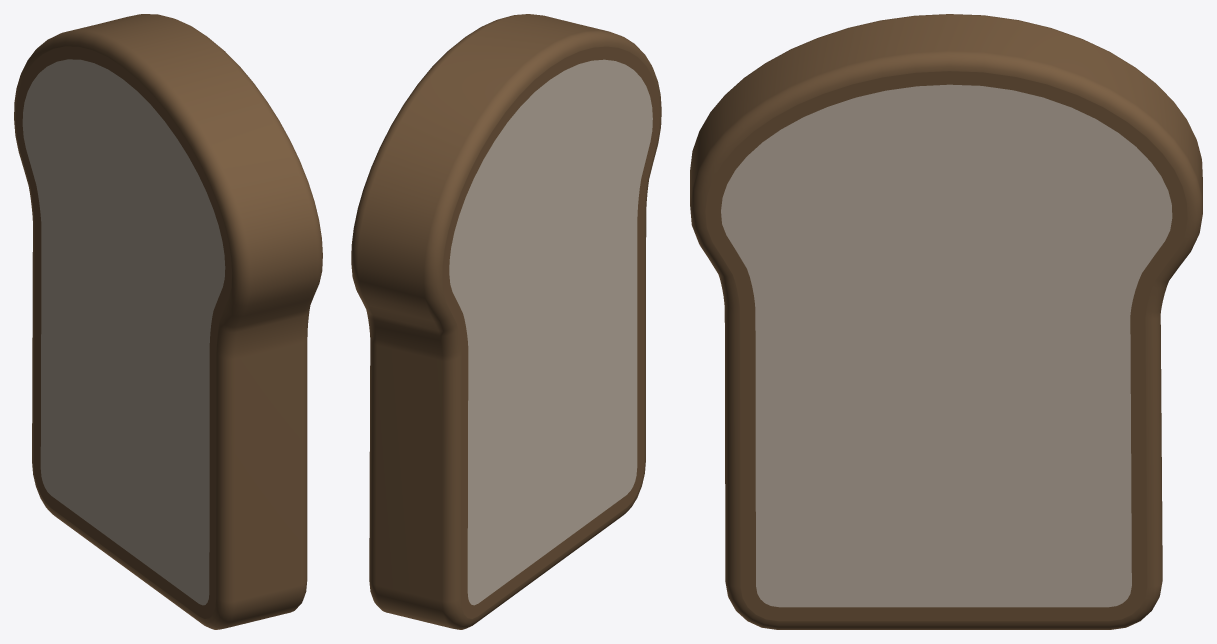
Rendered from SM_Toast_01.fbx.
The picture shows the model from 3 angles, left to right: view 1: azimuth 30°, elevation 25°; view 2: azimuth 150°, elevation 25°; view 3: azimuth 270°, elevation 25°; orthographic projection. The views are drawn at different scales.
Parts seen in each view (by area): view 1: Cylinder.015; view 2: Cylinder.015; view 3: Cylinder.015.
Boxes of the visible parts, x1=… form: Cylinder.015: x1=14, y1=14, x2=322, y2=629; Cylinder.015: x1=351, y1=14, x2=661, y2=629; Cylinder.015: x1=690, y1=14, x2=1202, y2=629.
Size of the model in its own units: 10.21 by 56.78 by 45.68.
